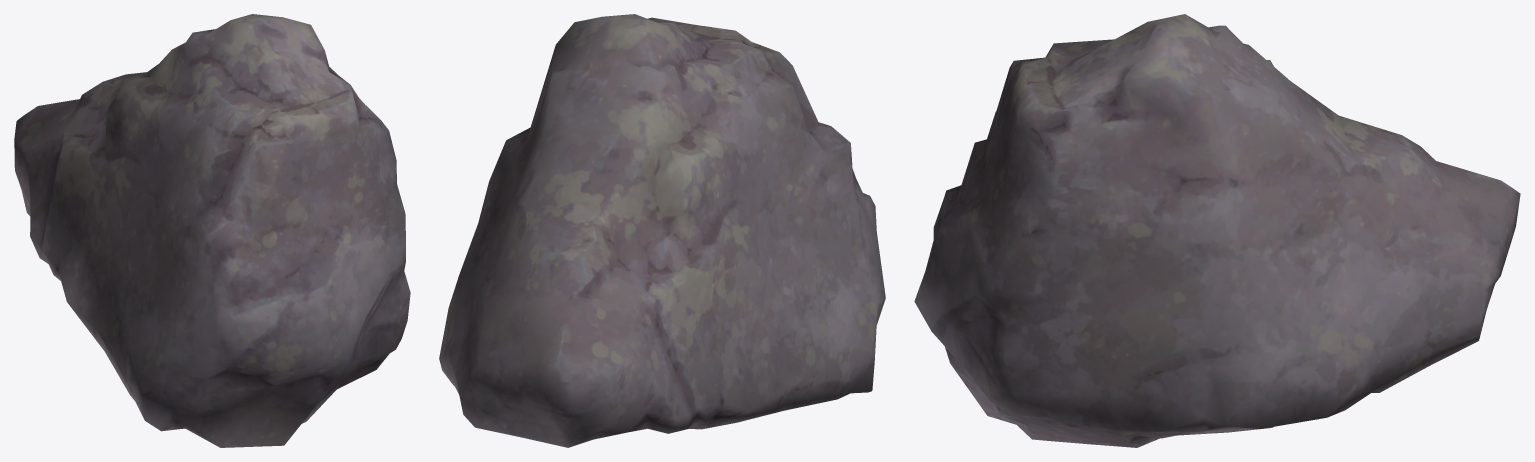
File: Area_Dq_Rock_MS_Full_M_01_Lod0.fbx
3 views of the same model, side by side, from view 1: azimuth 30°, elevation 25°; view 2: azimuth 150°, elevation 25°; view 3: azimuth 270°, elevation 25° (orthographic). The views are drawn at different scales.
Parts seen in each view (by area): view 1: Area_Dq_Rock_MS_Full_M_01_Lod0; view 2: Area_Dq_Rock_MS_Full_M_01_Lod0; view 3: Area_Dq_Rock_MS_Full_M_01_Lod0.
Part boxes in pixels (box(x1,y1,x2,y2)): Area_Dq_Rock_MS_Full_M_01_Lod0: box(14, 14, 410, 447); Area_Dq_Rock_MS_Full_M_01_Lod0: box(439, 14, 885, 447); Area_Dq_Rock_MS_Full_M_01_Lod0: box(914, 14, 1520, 447).
Bounding box in the file's own units: 2.09 × 2.49 × 3.25.
1 material, 1 textured.
